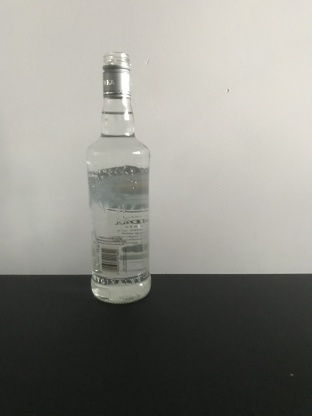nakretka: (101, 50, 132, 99)
